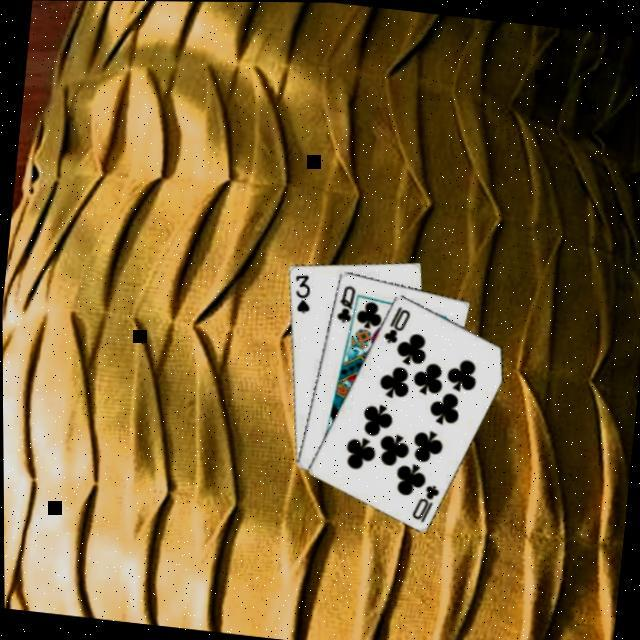10C: (406, 477, 441, 524), (378, 300, 412, 346)
3S: (287, 269, 313, 314)
QC: (330, 279, 356, 324)
